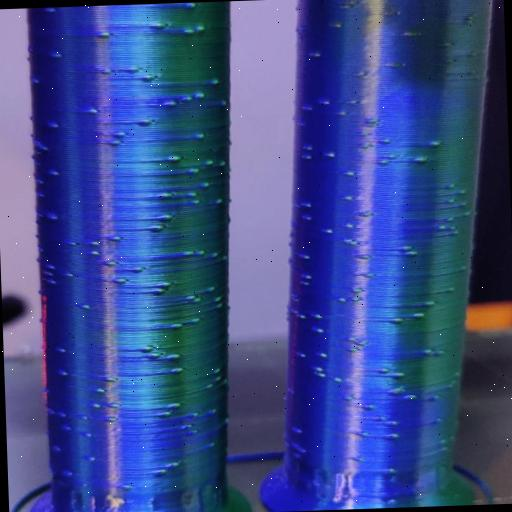blobs: (422, 132, 447, 148), (164, 152, 183, 167), (164, 398, 184, 412), (119, 64, 142, 76), (154, 209, 172, 223), (384, 430, 402, 444), (410, 155, 430, 167), (145, 222, 162, 236), (187, 292, 203, 306), (312, 366, 328, 379), (204, 405, 221, 417), (156, 278, 176, 288), (78, 428, 92, 442), (147, 349, 162, 362), (87, 104, 103, 116), (56, 342, 68, 358), (308, 48, 324, 60), (166, 458, 182, 470), (116, 481, 132, 493), (60, 466, 76, 478), (290, 422, 304, 435), (48, 165, 60, 180), (54, 368, 69, 380), (48, 50, 63, 62), (356, 428, 371, 440), (189, 424, 204, 436), (410, 310, 426, 321), (54, 411, 71, 421), (110, 128, 124, 140), (140, 73, 154, 85), (204, 281, 218, 293), (46, 212, 61, 223), (208, 293, 223, 304), (388, 384, 404, 394), (400, 392, 416, 402), (188, 196, 204, 206), (106, 232, 122, 242), (106, 400, 122, 410), (160, 408, 176, 418), (168, 366, 184, 376), (440, 38, 456, 48), (382, 418, 398, 428), (426, 394, 442, 404), (138, 116, 151, 128), (398, 243, 412, 254), (46, 119, 60, 130), (180, 26, 194, 37), (361, 401, 376, 411), (177, 94, 192, 104), (102, 258, 117, 268), (77, 300, 92, 310), (91, 386, 106, 396), (185, 2, 200, 12), (187, 408, 202, 418), (207, 440, 222, 450), (180, 248, 196, 257), (97, 28, 109, 40), (152, 20, 165, 31), (390, 314, 404, 324), (318, 96, 332, 106), (112, 275, 126, 285), (140, 344, 154, 354), (420, 299, 435, 308), (300, 198, 311, 210), (188, 315, 200, 326), (300, 101, 312, 112), (431, 414, 442, 426), (183, 419, 195, 430), (187, 164, 200, 174), (209, 248, 222, 258), (192, 24, 205, 34), (403, 30, 416, 40), (128, 265, 142, 274), (150, 286, 164, 295), (295, 348, 306, 359), (380, 134, 390, 146), (324, 150, 336, 160), (342, 170, 357, 178), (376, 158, 388, 168), (406, 248, 418, 258), (300, 212, 312, 222), (333, 375, 345, 385), (162, 98, 174, 108), (44, 264, 59, 272), (46, 276, 56, 288), (213, 304, 228, 312), (170, 352, 182, 362), (88, 240, 102, 248), (442, 286, 456, 294), (336, 110, 350, 118), (421, 346, 432, 356), (64, 270, 75, 280), (299, 251, 311, 260), (87, 403, 102, 410), (202, 158, 215, 166), (186, 190, 199, 198), (435, 348, 448, 356), (302, 152, 312, 162), (338, 294, 348, 304), (310, 311, 320, 321), (210, 76, 220, 86), (200, 178, 210, 188), (202, 382, 212, 392), (32, 75, 42, 85), (376, 367, 390, 374), (324, 227, 336, 235), (362, 271, 374, 279), (107, 138, 119, 146), (194, 131, 206, 139), (192, 248, 204, 256), (332, 22, 344, 30), (156, 468, 168, 476), (51, 444, 63, 452), (298, 280, 311, 287), (394, 369, 404, 378), (62, 423, 72, 432), (386, 468, 396, 477), (386, 151, 397, 159), (89, 248, 100, 256), (170, 322, 181, 330), (444, 182, 454, 190), (436, 224, 446, 232), (342, 194, 352, 202), (304, 273, 314, 281), (108, 374, 116, 384), (209, 367, 220, 374), (192, 92, 204, 98), (84, 456, 96, 462), (360, 252, 370, 259), (210, 376, 220, 383), (457, 202, 468, 208), (314, 328, 325, 334), (458, 188, 467, 195), (444, 198, 454, 204), (444, 216, 454, 222), (448, 223, 456, 230), (344, 221, 352, 228), (320, 350, 326, 355)
